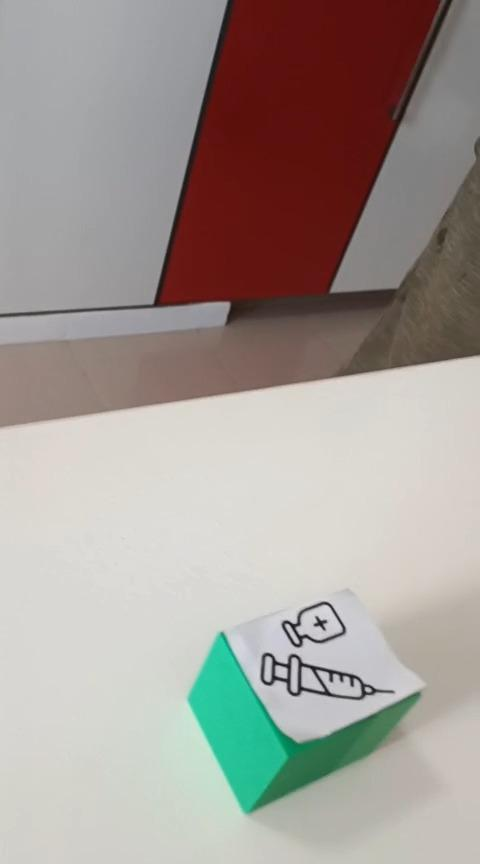antiseptic cream: (186, 585, 426, 814)
